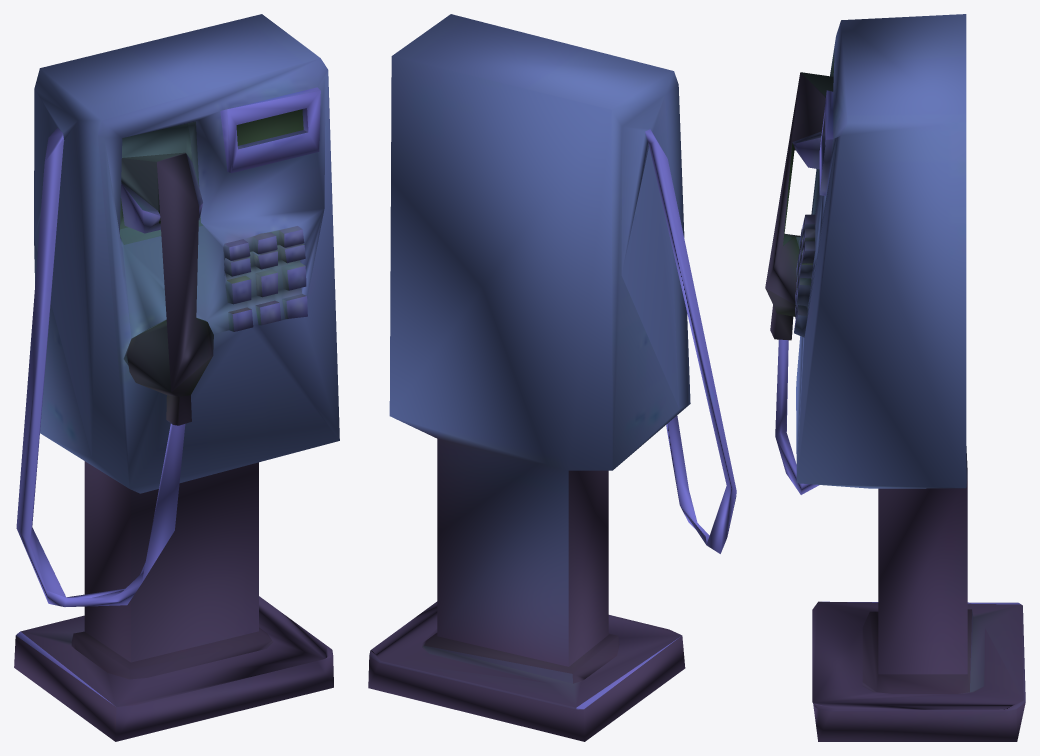
File: model.progressive.glb
The picture shows the model from 3 angles, left to right: view 1: azimuth 30°, elevation 25°; view 2: azimuth 150°, elevation 25°; view 3: azimuth 270°, elevation 25°; orthographic projection.
Parts seen in each view (by area): view 1: material; view 2: material; view 3: material.
Part boxes in pixels (left/top/right/bottom): material: left=14, top=14, right=339, bottom=741; material: left=368, top=14, right=736, bottom=741; material: left=765, top=14, right=1025, bottom=741.
Bounding box in the file's own units: 0.9501 × 1.87 × 0.7115.
Materials: 1 (1 with a texture image).
